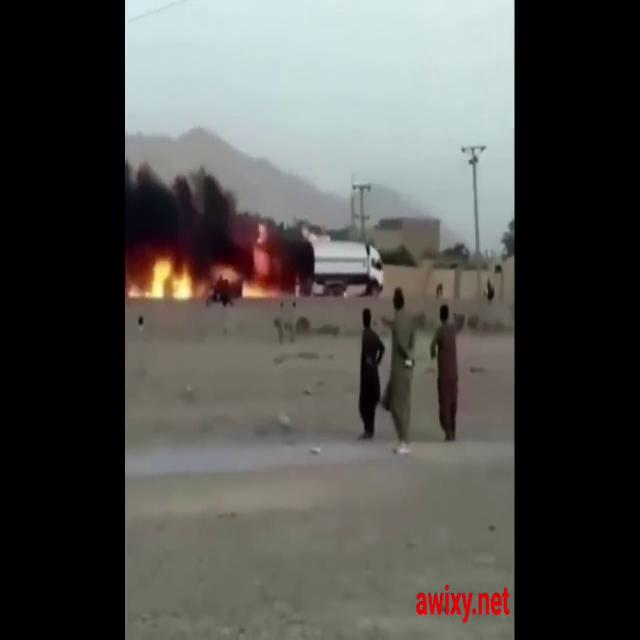Fire: (129, 246, 214, 300), (242, 275, 287, 304)
Smoke: (127, 162, 314, 303)
